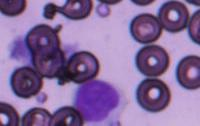L: (74, 77, 125, 125)
